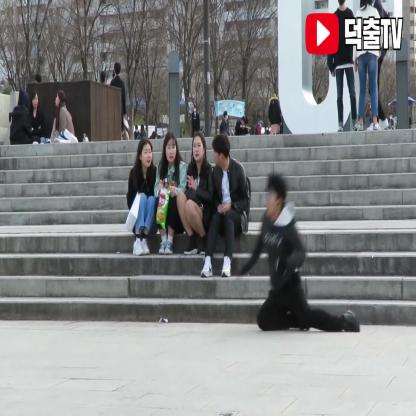Fall_Down: (234, 168, 367, 339)
